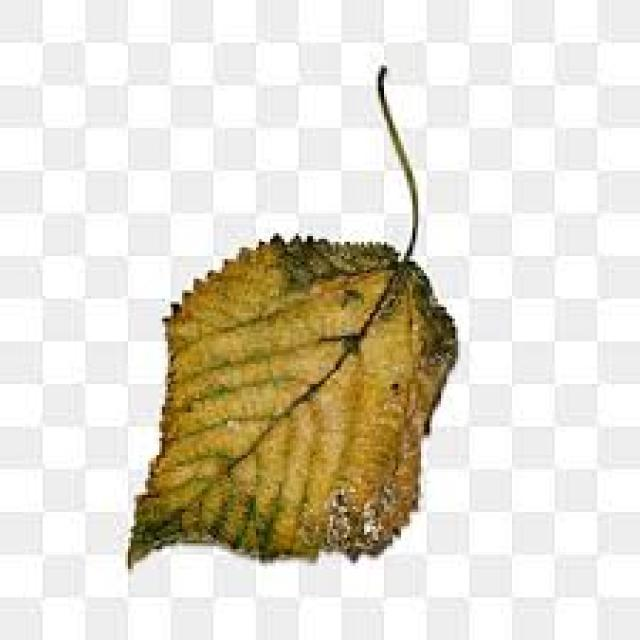leaf: (125, 231, 458, 570)
